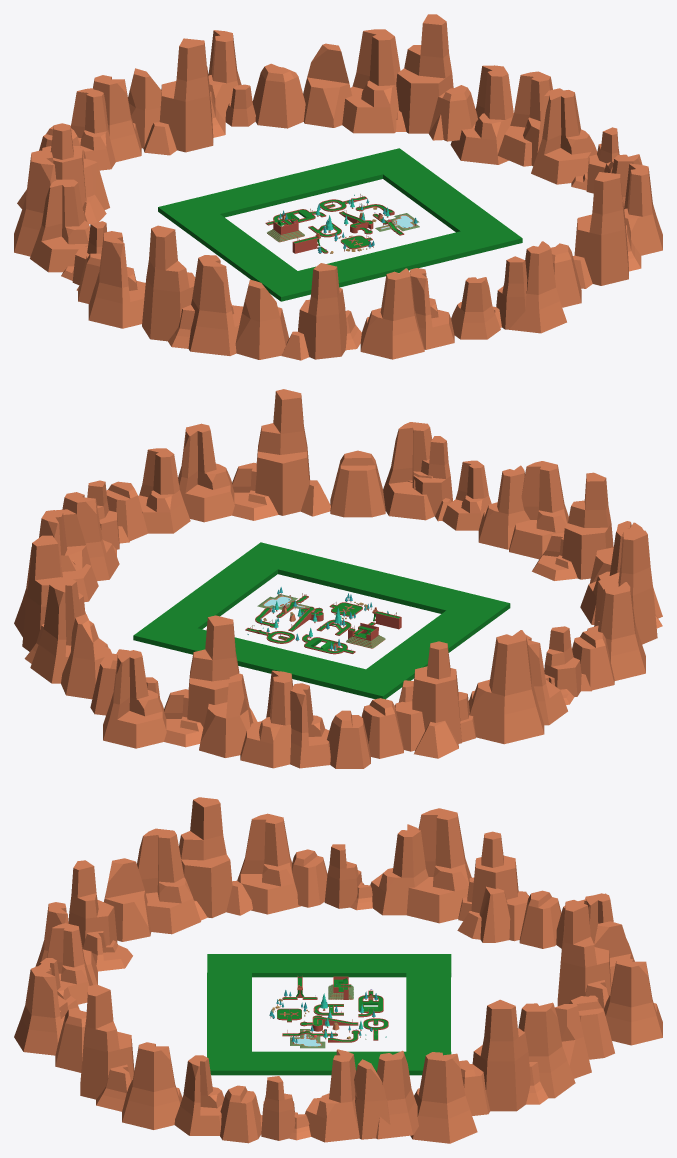
Rendered from forest.glb.
3 views of the same model, one above another, from view 1: azimuth 30°, elevation 25°; view 2: azimuth 150°, elevation 25°; view 3: azimuth 270°, elevation 25° (orthographic). The views are drawn at different scales.
Parts seen in each view (by area): view 1: rock_tallH (×17), rock_tallA (×8), instanced_trees (×4), rock_tallJ (×4), rock_tallE (×4), rock_tallB, rock_tallF; view 2: rock_tallH (×16), rock_tallA (×8), instanced_trees (×4), rock_tallE (×6), rock_tallJ (×4), rock_tallB; view 3: rock_tallH (×16), rock_tallA (×7), instanced_trees (×4), rock_tallE (×6), rock_tallJ (×4), rock_tallB.
Boxes of the visible parts, x1,y1,x2,y2 form: rock_tallH (×17): (14, 29, 662, 359); rock_tallA (×8): (61, 14, 641, 360); instanced_trees (×4): (158, 148, 522, 301); rock_tallJ (×4): (128, 43, 562, 359); rock_tallE (×4): (78, 63, 581, 307); rock_tallB: (17, 123, 109, 224); rock_tallF: (225, 84, 255, 126); rock_tallH (×16): (30, 422, 662, 768); rock_tallA (×8): (22, 389, 662, 747); instanced_trees (×4): (133, 542, 510, 699); rock_tallE (×6): (90, 450, 614, 768); rock_tallJ (×4): (56, 509, 631, 757); rock_tallB: (395, 641, 475, 758); rock_tallH (×16): (14, 808, 662, 1143); rock_tallA (×7): (68, 797, 611, 1140); instanced_trees (×4): (207, 954, 451, 1075); rock_tallE (×6): (55, 849, 614, 1143); rock_tallJ (×4): (104, 858, 632, 1139); rock_tallB: (457, 831, 529, 942).
Bounding box in the file's own units: 123 × 24.28 × 128.
